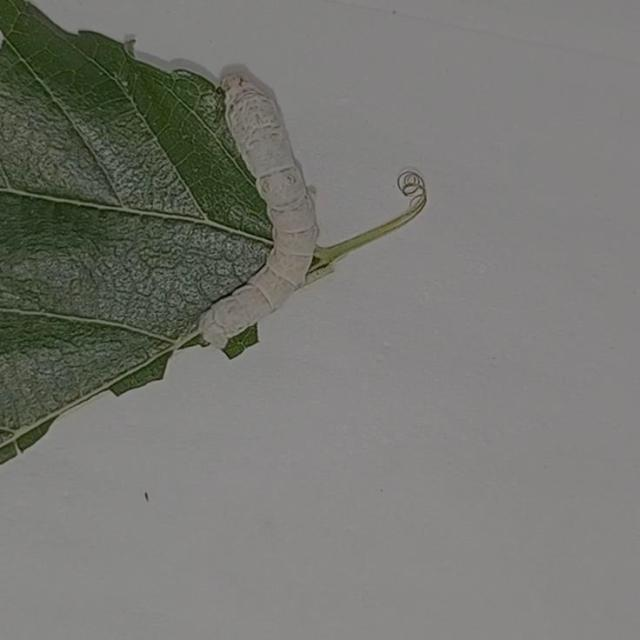Healthy: (188, 52, 336, 355)
